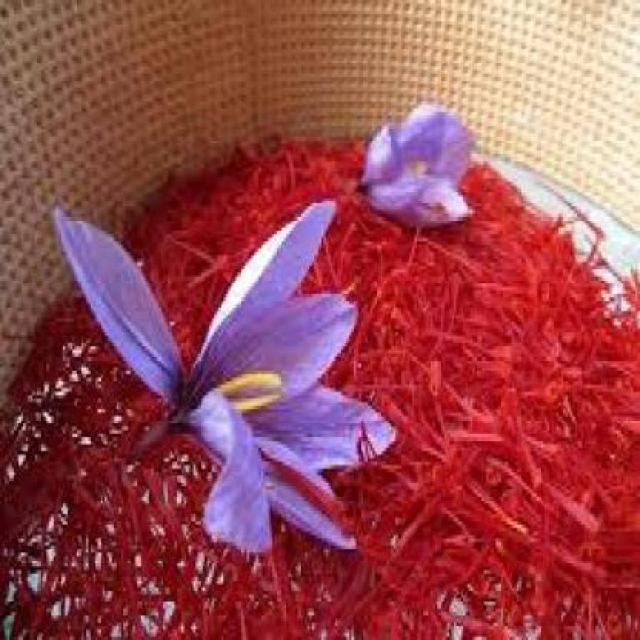saffron open: (55, 203, 395, 552), (362, 104, 472, 226)
